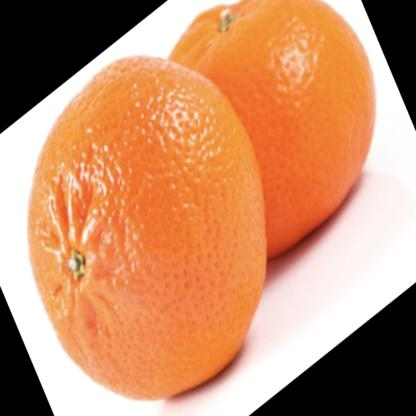fresh: (25, 1, 381, 401)
